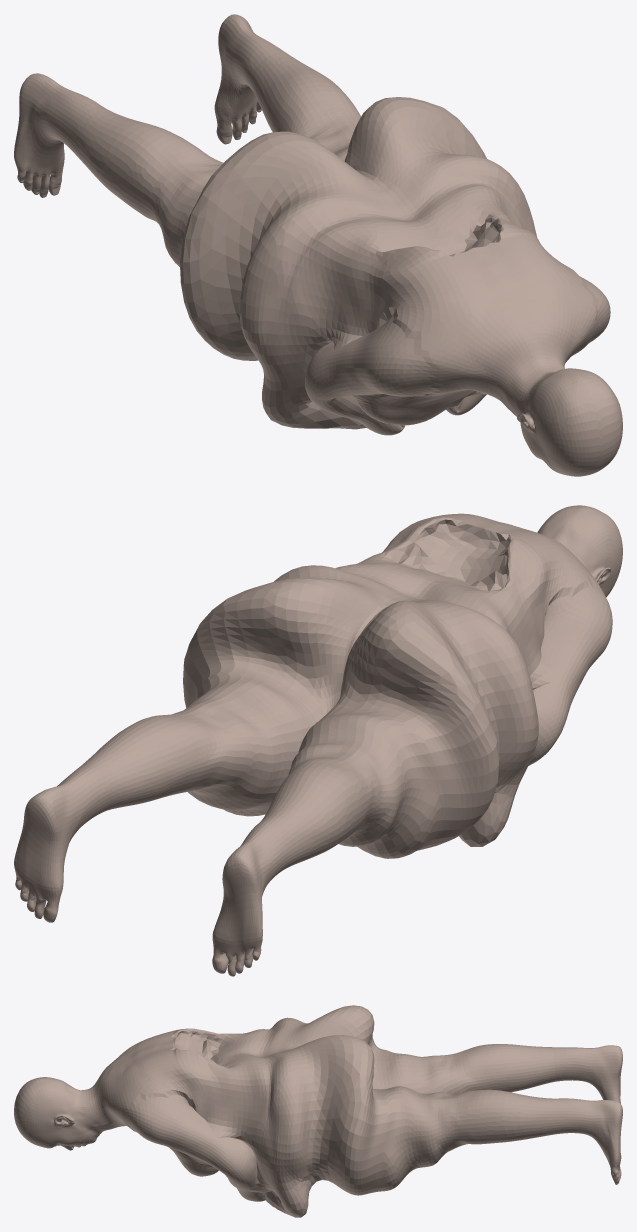
3 renders of one model, top to bottom at view 1: azimuth 30°, elevation 25°; view 2: azimuth 150°, elevation 25°; view 3: azimuth 270°, elevation 25°, orthographic. The views are drawn at different scales.
Visible parts, largest first — view 1: geometry_0; view 2: geometry_0; view 3: geometry_0.
Boxes of the visible parts, x1,y1,x2,y2 form: geometry_0: [14, 14, 622, 476]; geometry_0: [14, 505, 622, 976]; geometry_0: [14, 1005, 622, 1217].
Size of the model in its own units: 0.5808 by 0.4716 by 1.51.
